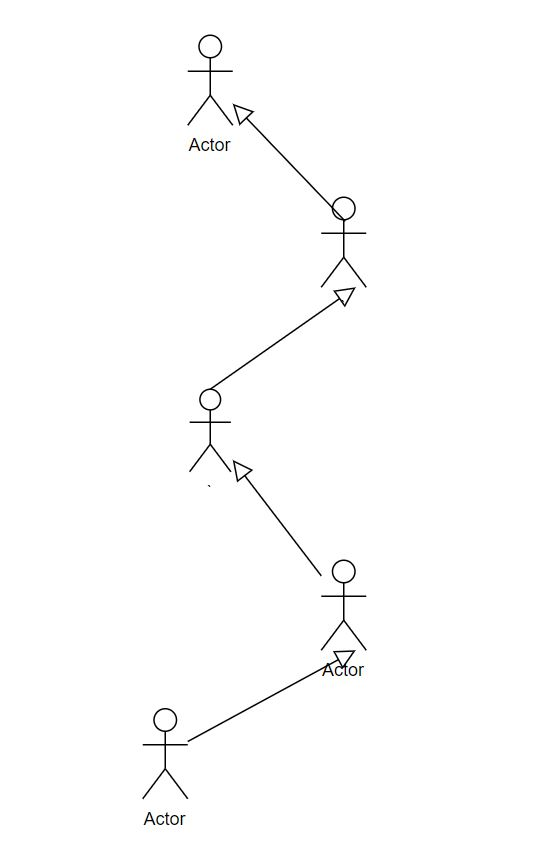actor: (142, 708, 190, 801), (321, 558, 369, 650), (320, 196, 367, 288), (185, 35, 233, 125), (188, 388, 229, 470)
generalization: (190, 648, 355, 742), (209, 286, 356, 385), (232, 105, 343, 218), (231, 462, 321, 574)
text: (181, 129, 233, 159), (142, 806, 190, 831), (319, 661, 366, 680)
